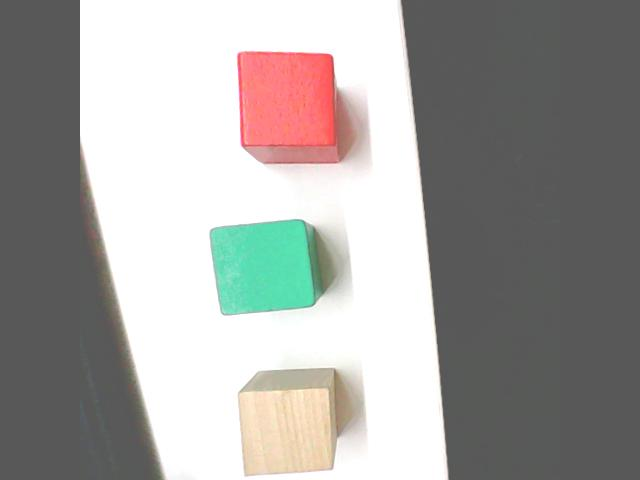green_box: (204, 215, 326, 319)
raw_box: (233, 364, 340, 479)
red_box: (232, 46, 344, 167)
